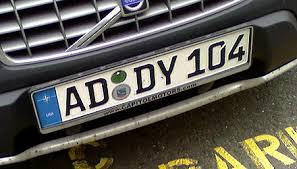0: (208, 41, 228, 72)
1: (185, 46, 207, 78)
4: (227, 33, 246, 62)
A: (63, 84, 86, 116)
D: (85, 77, 109, 109), (133, 63, 156, 94)
Y: (157, 55, 177, 86)
